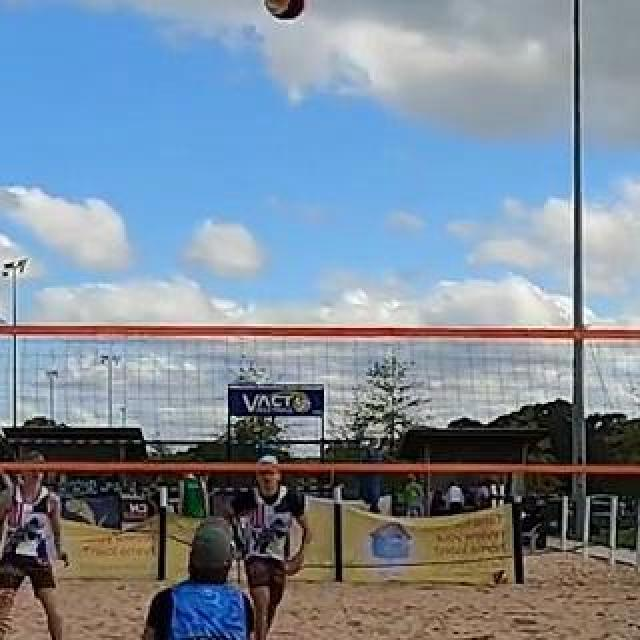volleyball: (264, 1, 310, 21), (492, 569, 510, 585)
